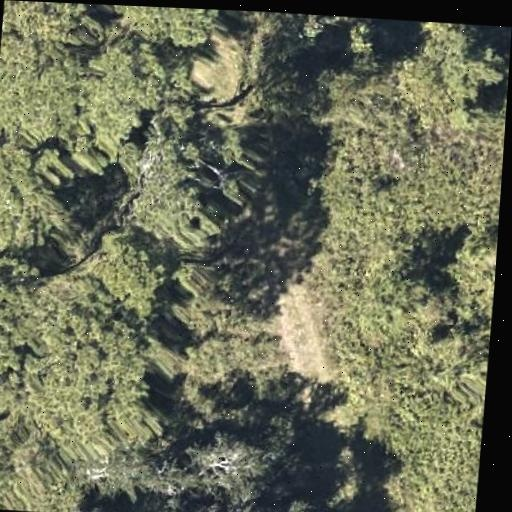tree-top: (10, 228, 172, 461), (118, 106, 261, 246), (396, 20, 507, 138), (0, 33, 97, 150), (75, 38, 164, 163), (340, 242, 440, 347), (0, 137, 83, 255), (183, 423, 288, 512), (78, 444, 186, 512), (432, 228, 498, 329), (99, 5, 229, 48), (0, 0, 99, 51), (0, 261, 26, 403), (339, 18, 382, 60)
